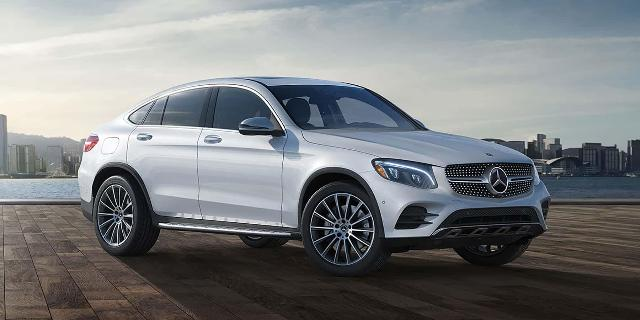benz: (77, 76, 551, 274)
